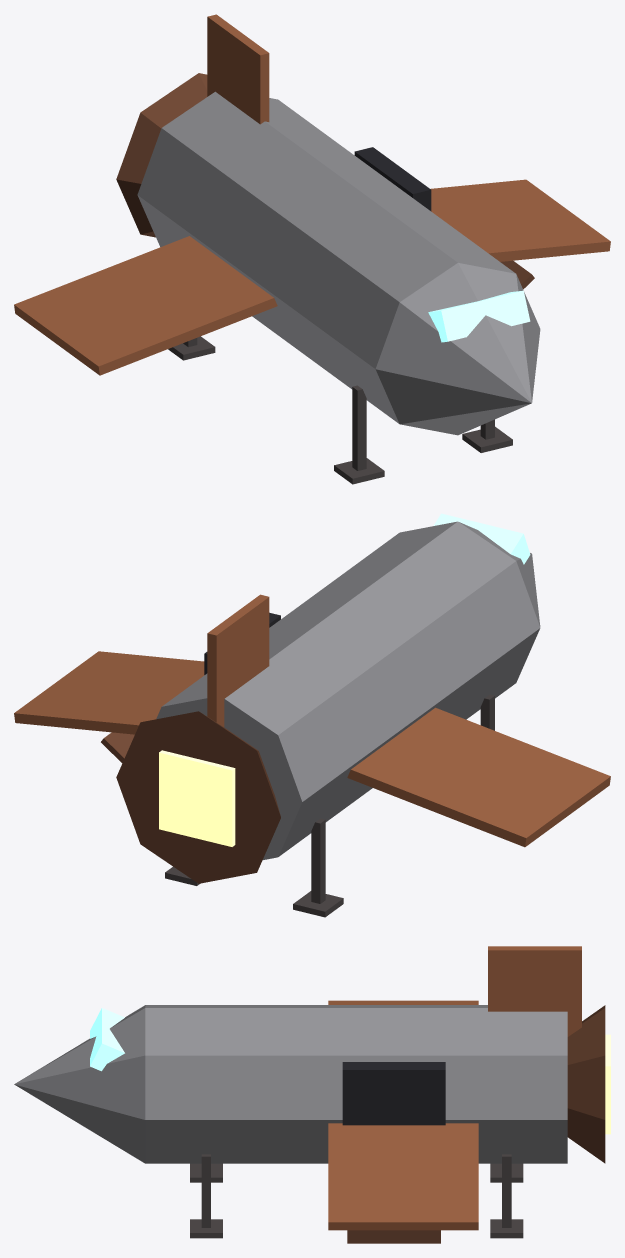
The model's file is ship.fbx.
3 renders of one model, top to bottom at view 1: azimuth 30°, elevation 25°; view 2: azimuth 150°, elevation 25°; view 3: azimuth 270°, elevation 25°, orthographic. The views are drawn at different scales.
Parts seen in each view (by area): view 1: ship; view 2: ship; view 3: ship.
Part boxes in pixels (x1,y1,x2,y2): ship: (14,14,610,484); ship: (14,513,610,917); ship: (14,946,610,1243).
Size of the model in its own units: 5.59 by 3.07 by 6.36.
